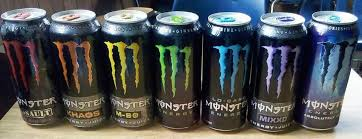can: (48, 1, 115, 139), (1, 5, 66, 135), (206, 8, 260, 139), (96, 14, 153, 134), (151, 6, 200, 139), (312, 6, 351, 139), (262, 26, 304, 139)
